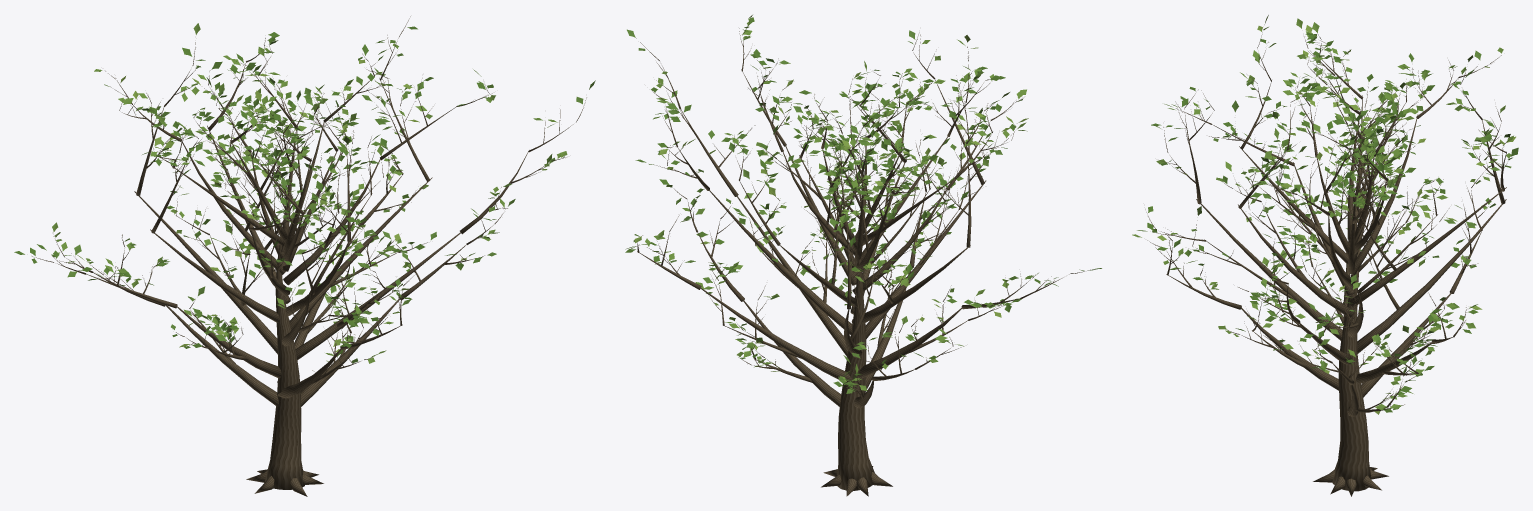
The model's file is Sessile_Oak_Mature_01_LOD2.fbx.
3 views of the same model, side by side, from view 1: azimuth 30°, elevation 25°; view 2: azimuth 150°, elevation 25°; view 3: azimuth 270°, elevation 25° (orthographic).
Visible parts, largest first — view 1: Sessile_Oak_Mature_01_Bark_LOD2, Sessile_Oak_Mature_01_Foliage_LOD2; view 2: Sessile_Oak_Mature_01_Bark_LOD2, Sessile_Oak_Mature_01_Foliage_LOD2; view 3: Sessile_Oak_Mature_01_Bark_LOD2, Sessile_Oak_Mature_01_Foliage_LOD2.
Boxes of the visible parts, left/top/right/bottom form: Sessile_Oak_Mature_01_Bark_LOD2: left=32, top=16, right=586, bottom=496; Sessile_Oak_Mature_01_Foliage_LOD2: left=14, top=23, right=595, bottom=363; Sessile_Oak_Mature_01_Bark_LOD2: left=636, top=21, right=1090, bottom=496; Sessile_Oak_Mature_01_Foliage_LOD2: left=625, top=15, right=1101, bottom=393; Sessile_Oak_Mature_01_Bark_LOD2: left=1145, top=32, right=1509, bottom=496; Sessile_Oak_Mature_01_Foliage_LOD2: left=1132, top=15, right=1518, bottom=414.
Size of the model in its own units: 2516 by 2000 by 1612.
5 materials, 1 textured.
